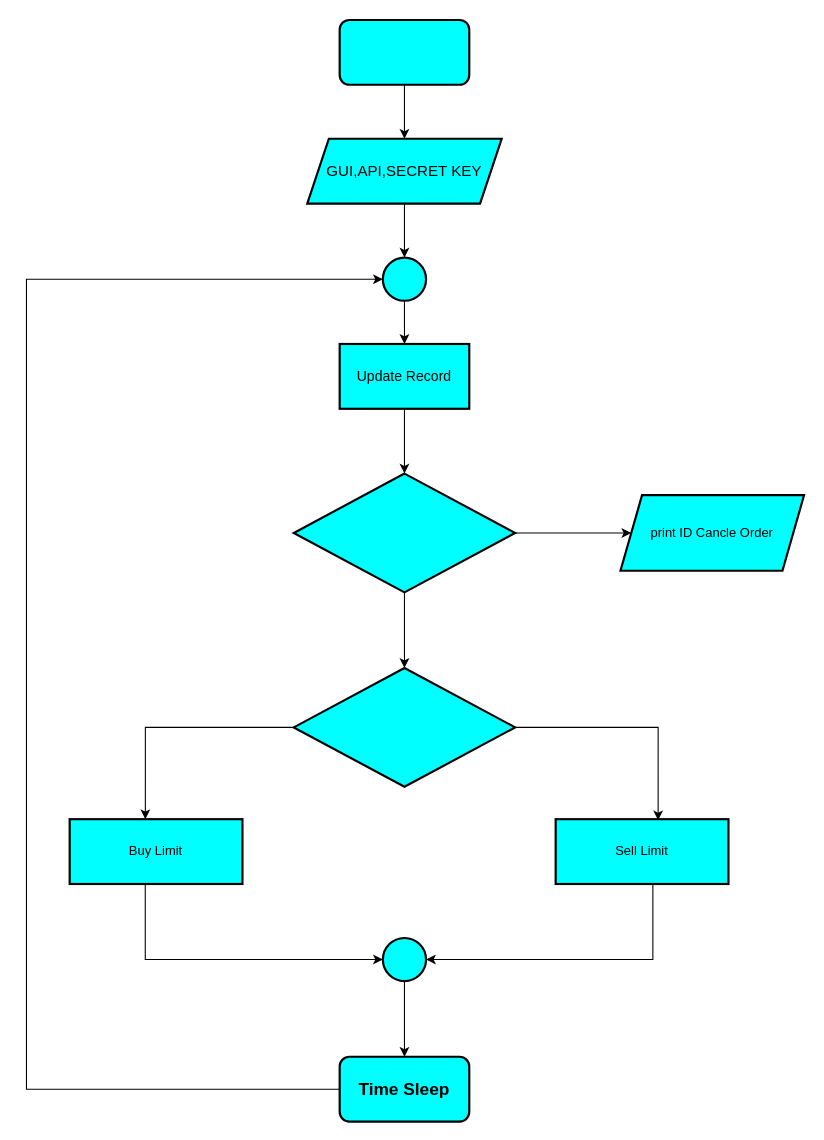
This 824x1140 diagram has some shape labels left out. Here are the shapes that lost their labels. From the top down, the box of each, then its label:
(338, 18, 470, 85): START
(292, 472, 516, 593): Cancle Order
(292, 666, 516, 787): Chek Mark Up Exposuer if > maxexposure
